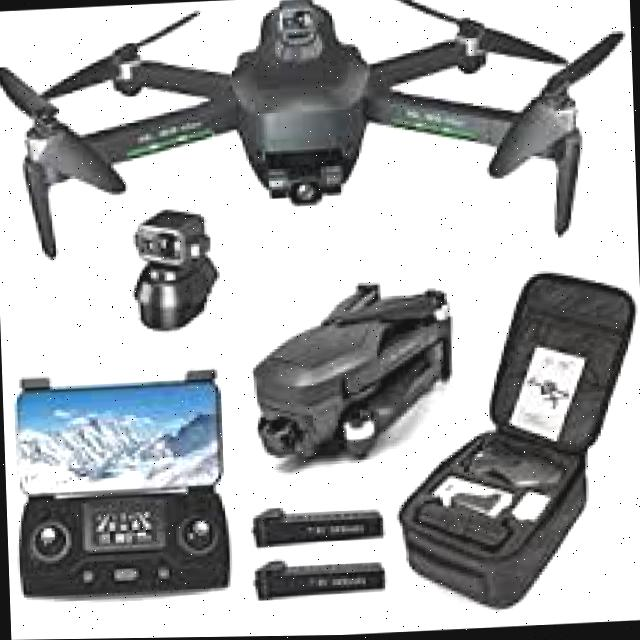drone: (0, 0, 638, 276)
